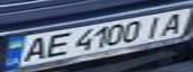0: (121, 18, 148, 43), (106, 20, 127, 46)
1: (90, 25, 112, 50)
4: (72, 27, 96, 53)
A: (15, 35, 54, 64), (154, 10, 193, 37)
E: (39, 31, 72, 60)
I: (139, 14, 172, 38)
